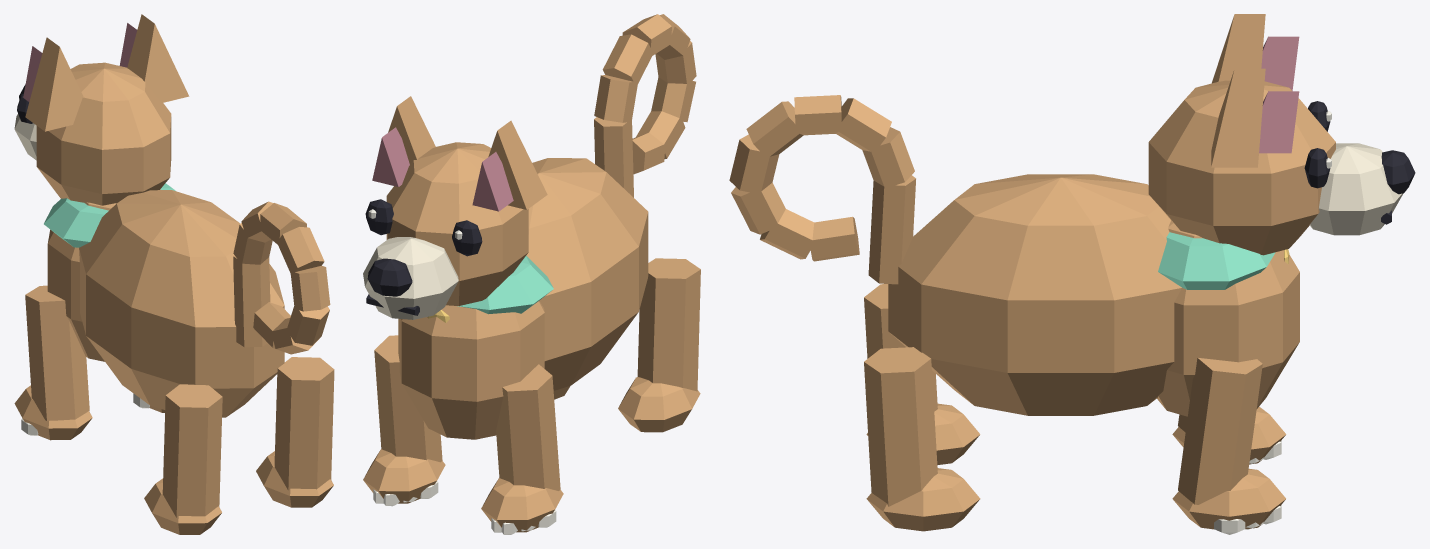
File: norwegian_lundehund.glb
3 renders of one model, left to right at view 1: azimuth 30°, elevation 25°; view 2: azimuth 150°, elevation 25°; view 3: azimuth 270°, elevation 25°, orthographic. The views are drawn at different scales.
Parts seen in each view (by area): view 1: BodyMesh, HeadMesh; view 2: BodyMesh, HeadMesh; view 3: BodyMesh, HeadMesh.
Boxes of the visible parts, x1=… form: BodyMesh: x1=14, y1=183, x2=334, y2=534; HeadMesh: x1=14, y1=14, x2=189, y2=205; BodyMesh: x1=363, y1=14, x2=700, y2=534; HeadMesh: x1=363, y1=96, x2=547, y2=319; BodyMesh: x1=729, y1=95, x2=1299, y2=534; HeadMesh: x1=1148, y1=14, x2=1415, y2=255.
Bounding box in the file's own units: 0.458 × 0.965 × 1.32.
